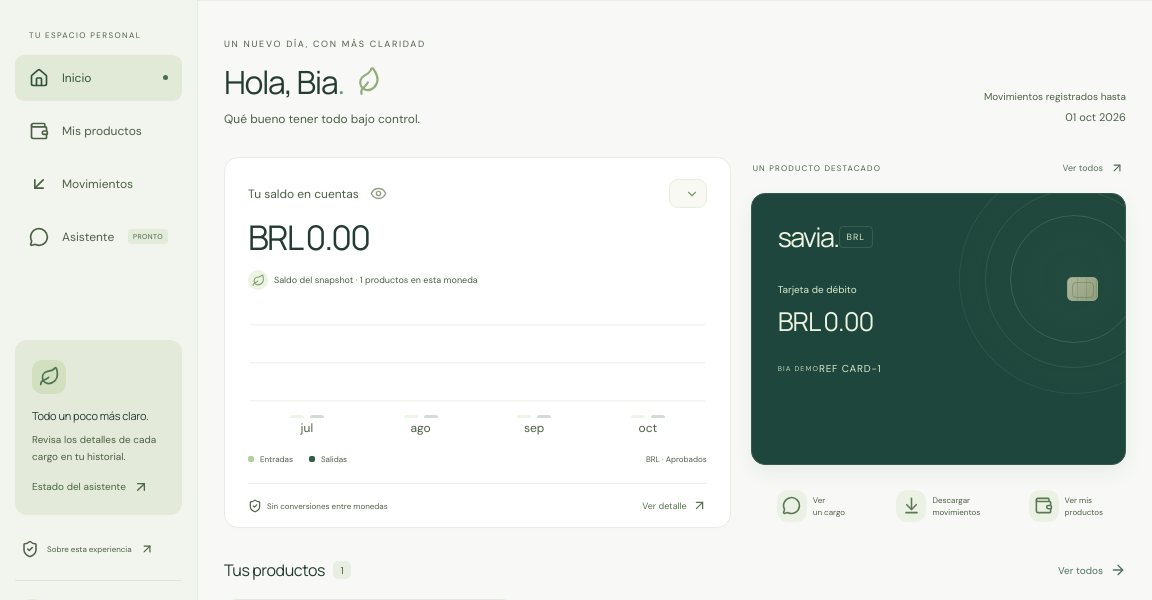
Test: Spanish transaction pagination keeps its previous-page accessible name
Step 1. Click the button "Movimientos" → (98, 184), box 15,160 -> 182,206
(page scrolled)
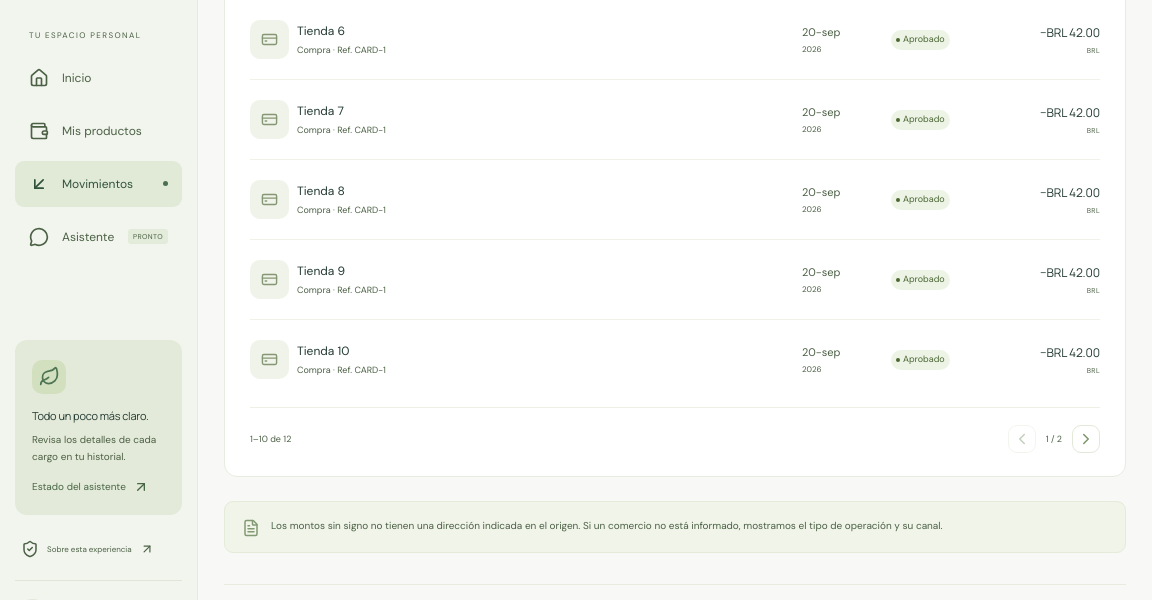
Step 2. Click the button named "Página siguiente" → (1086, 439), box 1072,425 -> 1100,453
(page scrolled)
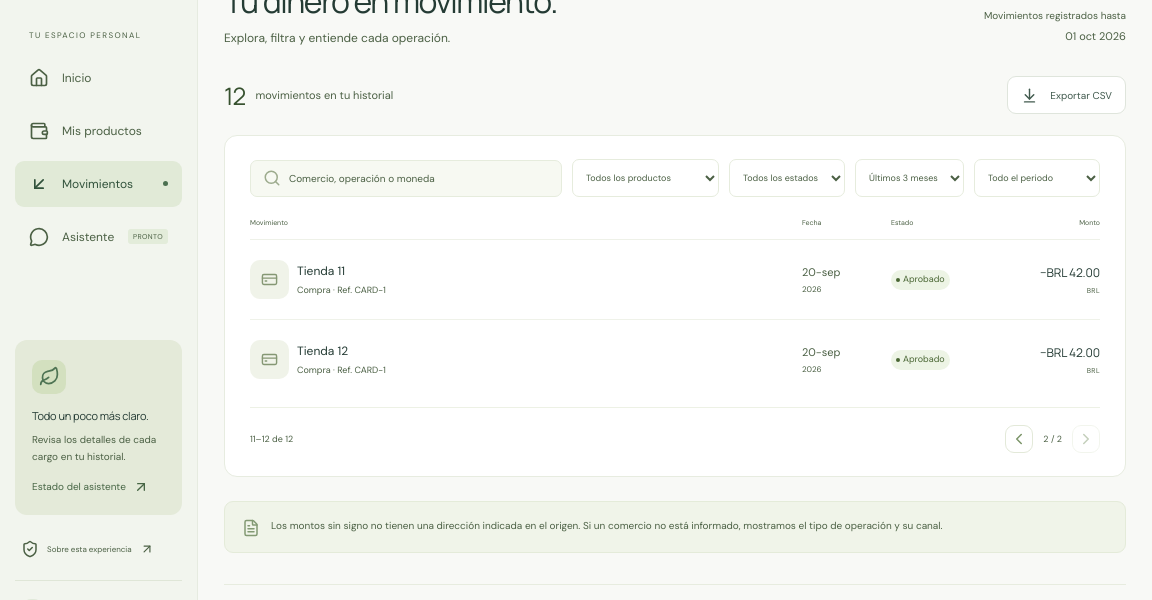
Expected: the button "Tienda 12" is shown, 250,320 -> 1100,399
Expected: the button named "Página anterior" is enabled, 1005,425 -> 1033,453
